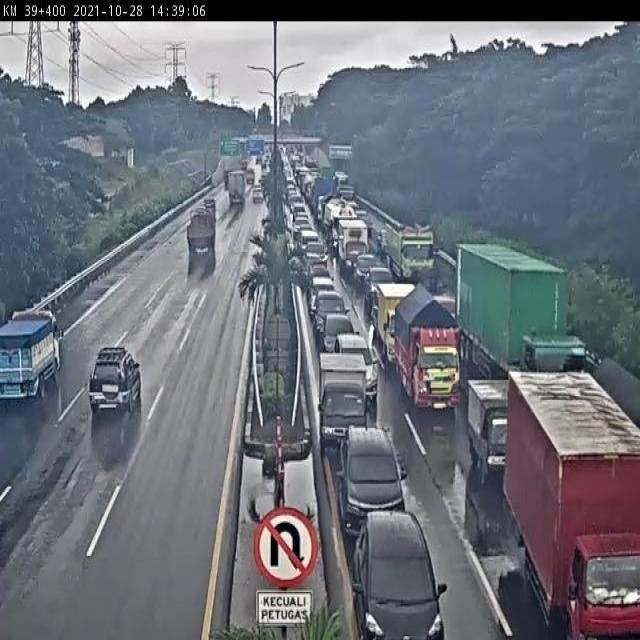Car: (349, 508, 445, 640), (335, 423, 408, 539), (88, 346, 143, 418), (332, 331, 380, 404), (310, 289, 349, 337), (319, 312, 356, 358), (362, 264, 394, 308), (308, 276, 338, 316), (353, 254, 380, 288), (306, 260, 334, 286), (302, 240, 330, 266), (298, 228, 320, 249), (203, 196, 217, 212), (252, 186, 265, 203)
Truck: (501, 365, 640, 640), (452, 238, 588, 374), (391, 281, 465, 412), (0, 305, 65, 404), (317, 351, 371, 457), (467, 378, 512, 484), (375, 280, 417, 366), (384, 219, 438, 282), (324, 196, 358, 253), (336, 218, 369, 274), (186, 211, 216, 255), (312, 171, 337, 220), (226, 169, 246, 206), (336, 183, 355, 201), (320, 165, 336, 181), (246, 168, 255, 184), (239, 158, 248, 171)
